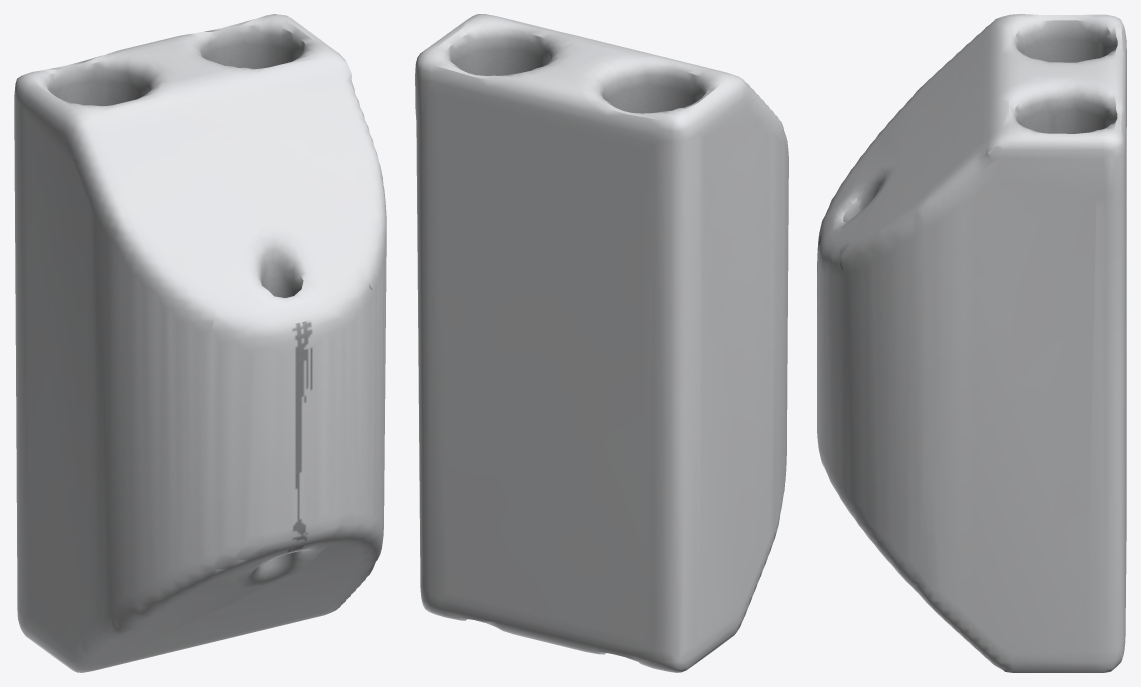
File: right_finger3_middle.glb
3 views of the same model, side by side, from view 1: azimuth 30°, elevation 25°; view 2: azimuth 150°, elevation 25°; view 3: azimuth 270°, elevation 25° (orthographic). The views are drawn at different scales.
Parts seen in each view (by area): view 1: right_finger3_middle; view 2: right_finger3_middle; view 3: right_finger3_middle.
Part boxes in pixels (x1=…): right_finger3_middle: x1=14, y1=14, x2=386, y2=672; right_finger3_middle: x1=415, y1=14, x2=788, y2=672; right_finger3_middle: x1=817, y1=14, x2=1126, y2=672.
Bounding box in the file's own units: 0.0112 × 0.0218 × 0.0112.
Materials: 1 (1 with a texture image).
